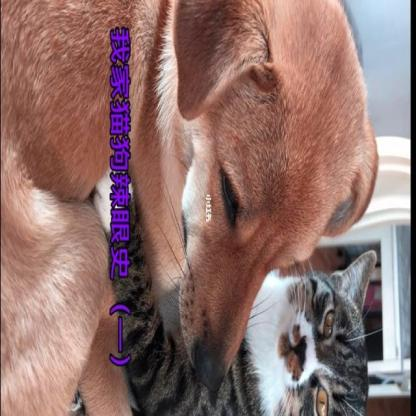cat: (251, 232, 390, 416)
dog: (150, 0, 386, 351)
